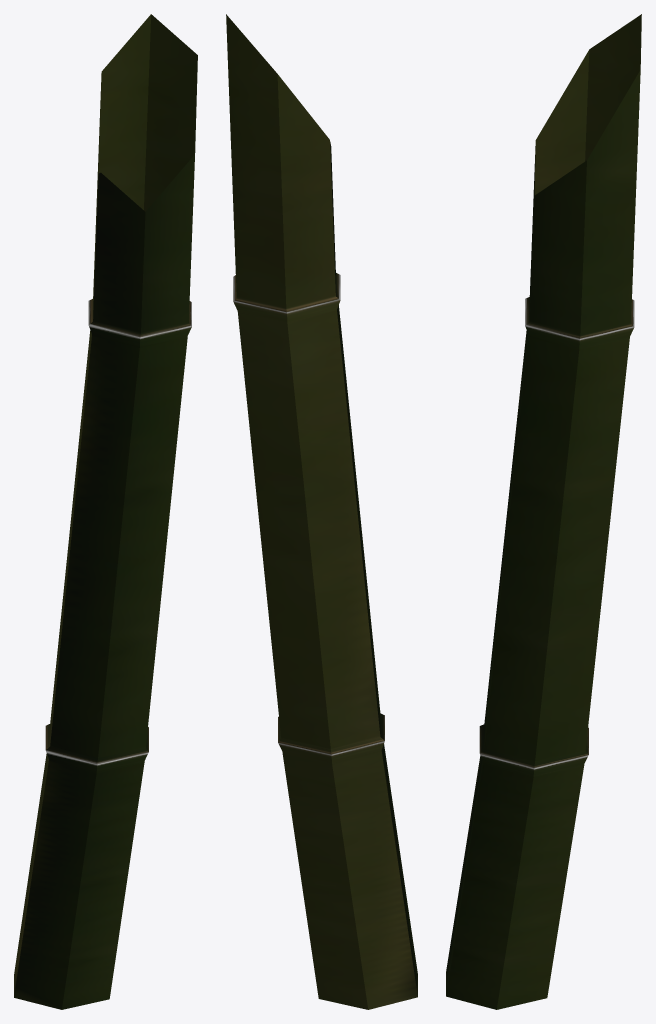
File: zhu_zi.FBX
3 renders of one model, left to right at view 1: azimuth 30°, elevation 25°; view 2: azimuth 150°, elevation 25°; view 3: azimuth 330°, elevation 25°, orthographic. The views are drawn at different scales.
Parts seen in each view (by area): view 1: Arch_061_047_02; view 2: Arch_061_047_02; view 3: Arch_061_047_02.
Boxes of the visible parts, box(x1,y1,x2,y2) form: Arch_061_047_02: box(14, 14, 197, 1009); Arch_061_047_02: box(226, 14, 417, 1009); Arch_061_047_02: box(446, 14, 641, 1009).
Bounding box in the file's own units: 17.45 × 84.2 × 8.48.
